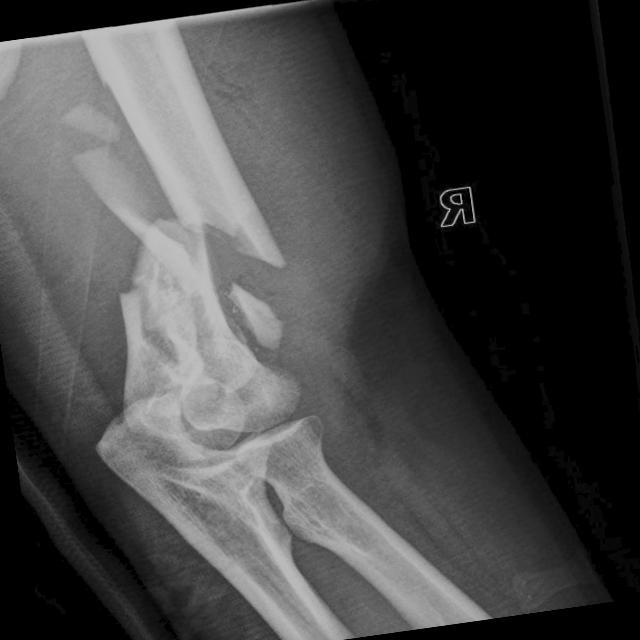Comminuted Fracture: (120, 212, 295, 346)
